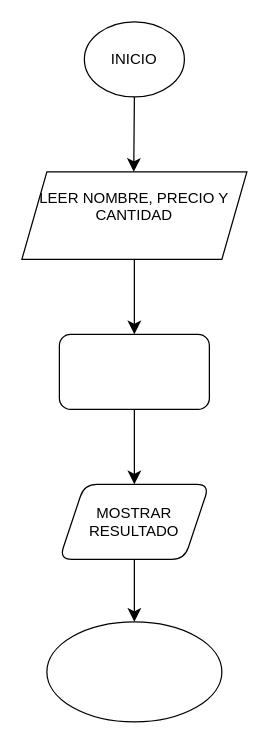
The diagram is 269 pixels wide and 745 high, and some of its shapes have lost their labels. The box of each missing label's shape, as (x1, y1, x2, y2) in pixels:
CALCULAR COSTO TOTAL: (58, 333, 209, 409)
FIN: (46, 621, 222, 722)
